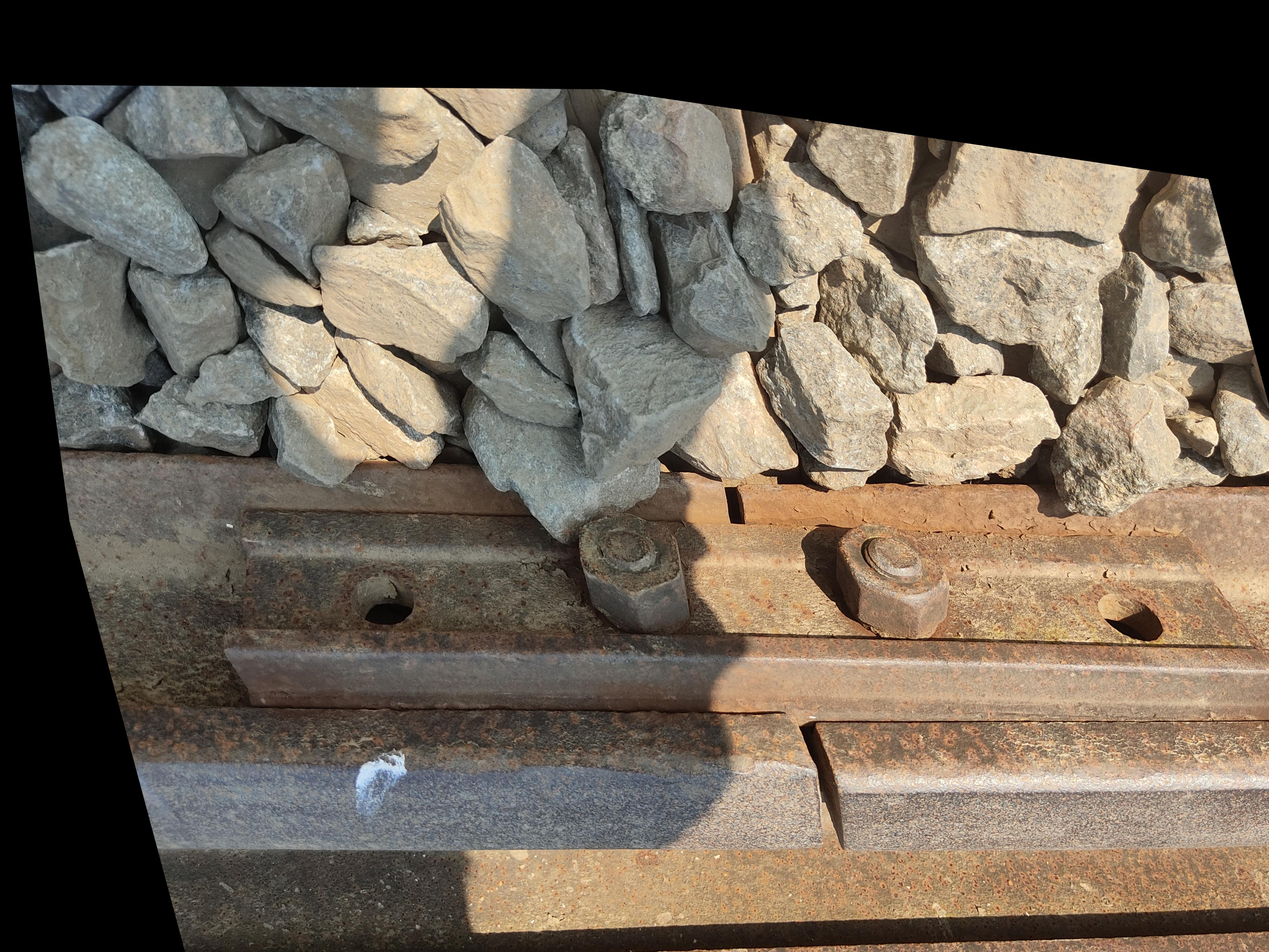person: (437, 840, 567, 952), (430, 729, 489, 784)
